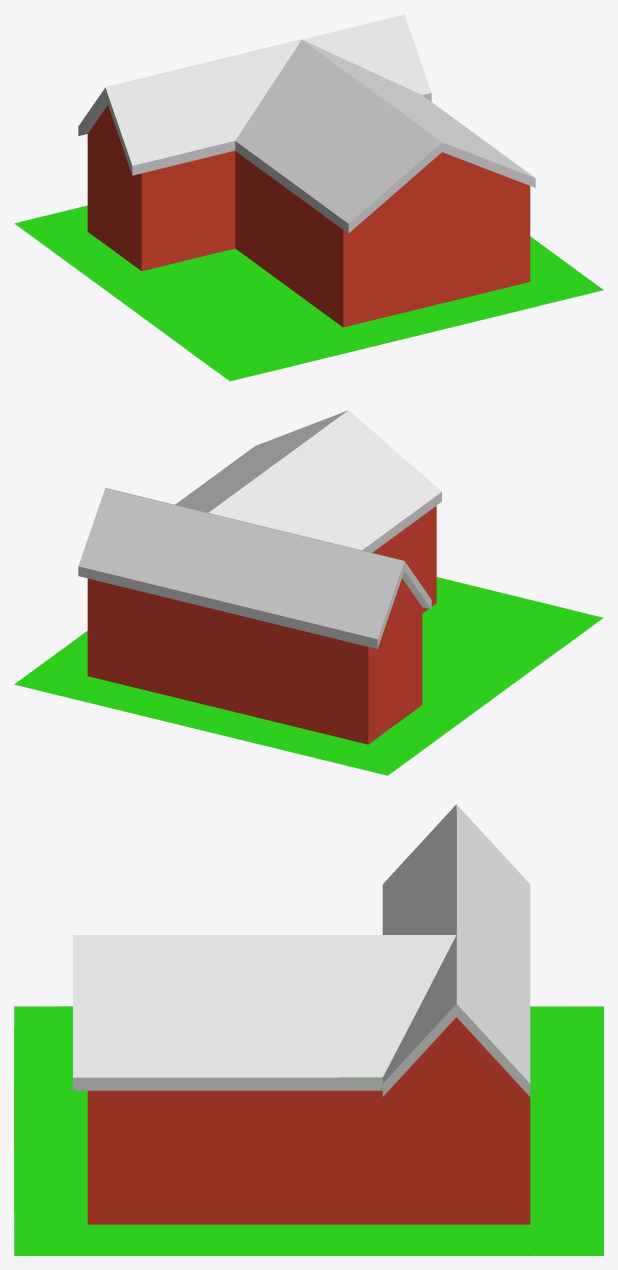
The model's file is farm.gltf.
The picture shows the model from 3 angles, top to bottom: view 1: azimuth 30°, elevation 25°; view 2: azimuth 150°, elevation 25°; view 3: azimuth 270°, elevation 25°; orthographic projection. The views are drawn at different scales.
Parts seen in each view (by area): view 1: Ferme_LP; view 2: Ferme_LP; view 3: Ferme_LP.
Part boxes in pixels (x1,y1,x2,y2): Ferme_LP: [14, 14, 603, 381]; Ferme_LP: [14, 410, 603, 775]; Ferme_LP: [14, 804, 603, 1255].
Bounding box in the file's own units: 4 × 1.7 × 4.
1 material, 1 textured.
